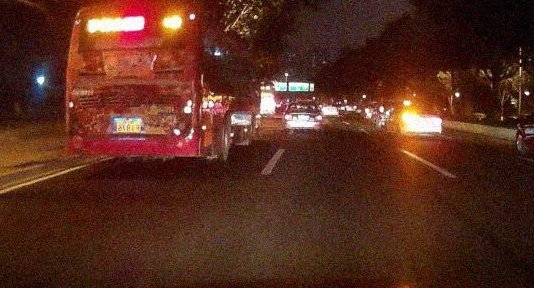L_light: (67, 100, 78, 135), (404, 116, 413, 123), (284, 115, 292, 120)
R_light: (180, 99, 192, 134), (434, 118, 441, 125), (315, 115, 322, 121)
T_light: (124, 7, 146, 15), (417, 104, 424, 107), (300, 103, 306, 106)
night-left: (401, 101, 441, 139)
night-no: (62, 0, 202, 170), (284, 100, 322, 135)
